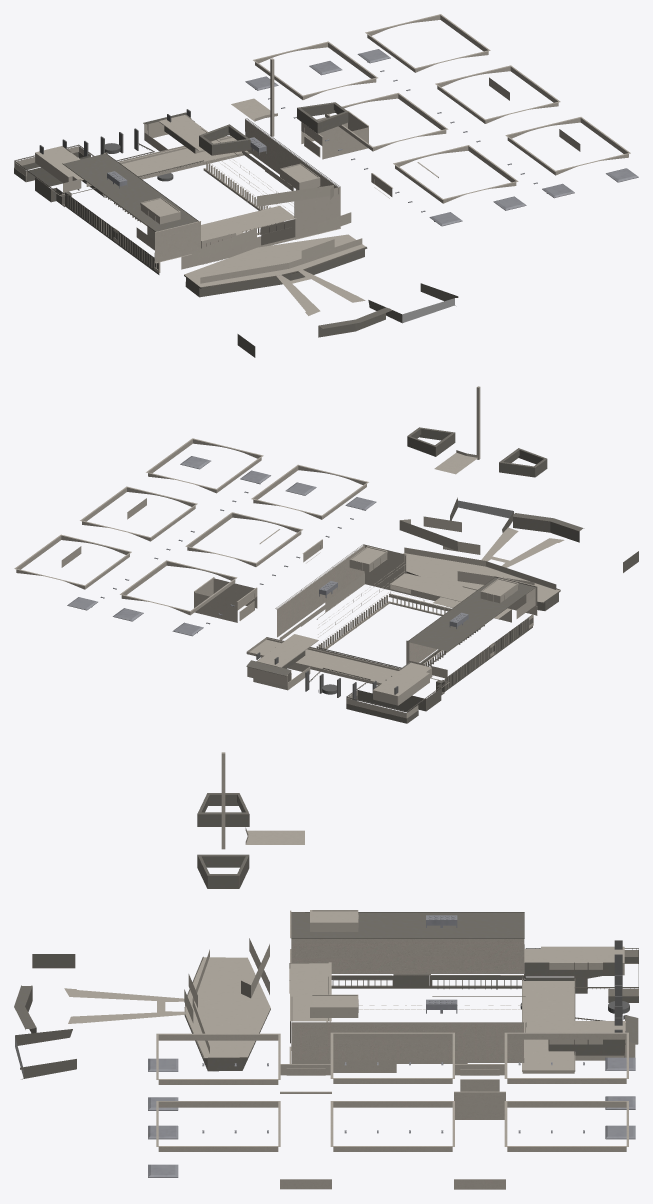
Rendered from accessory concrete.glb.
3 views of the same model, one above another, from view 1: azimuth 30°, elevation 25°; view 2: azimuth 150°, elevation 25°; view 3: azimuth 270°, elevation 25° (orthographic). The views are drawn at different scales.
Visible parts, largest first — view 1: accessory concrete raw; view 2: accessory concrete raw; view 3: accessory concrete raw.
Part boxes in pixels (left/top/right/bottom): accessory concrete raw: left=14, top=14, right=638, bottom=357; accessory concrete raw: left=14, top=386, right=638, bottom=723; accessory concrete raw: left=14, top=752, right=638, bottom=1189.
Size of the model in its own units: 11.27 by 5.49 by 11.41.
Materials: 1 (1 with a texture image).
